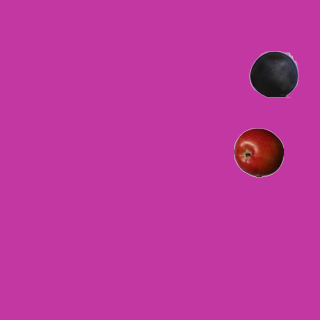Apple Braeburn: (233, 127, 283, 177)
Grape Blue: (248, 48, 298, 98)
